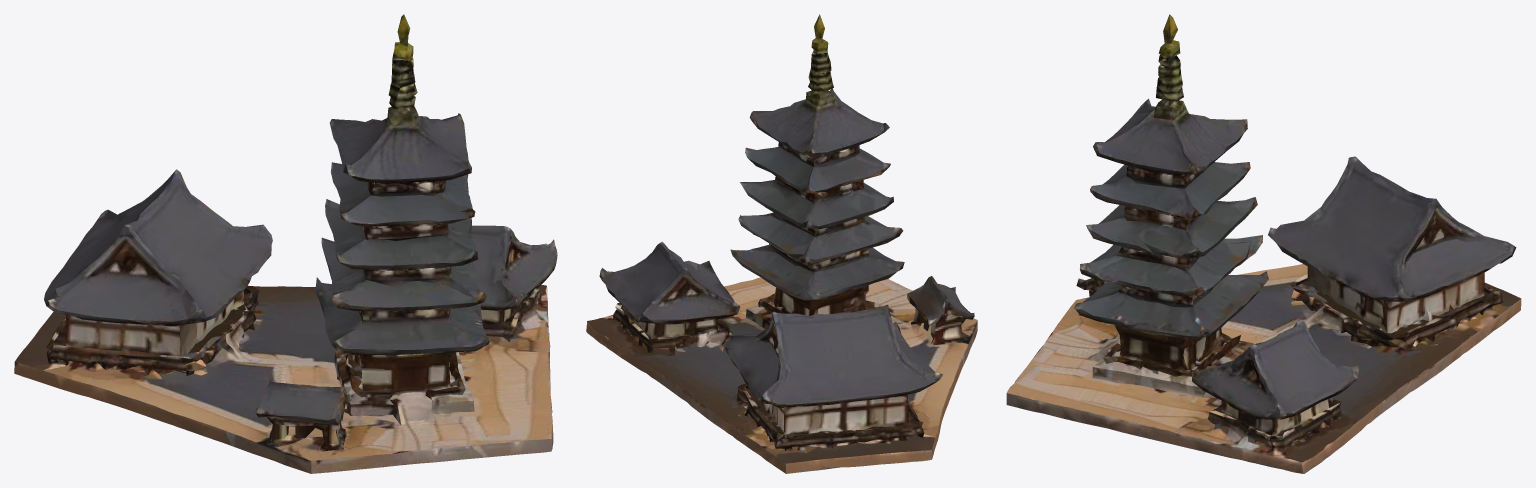
Rendered from toji-temple.glb.
The picture shows the model from 3 angles, left to right: view 1: azimuth 30°, elevation 25°; view 2: azimuth 150°, elevation 25°; view 3: azimuth 270°, elevation 25°; orthographic projection. The views are drawn at different scales.
Visible parts, largest first — view 1: logan-textured.obj; view 2: logan-textured.obj; view 3: logan-textured.obj.
Part boxes in pixels (x1,y1,x2,y2): logan-textured.obj: (14,14,557,473); logan-textured.obj: (586,14,977,473); logan-textured.obj: (1006,14,1521,473).
Size of the model in its own units: 1 by 0.7788 by 0.9999.
Materials: 1 (1 with a texture image).
